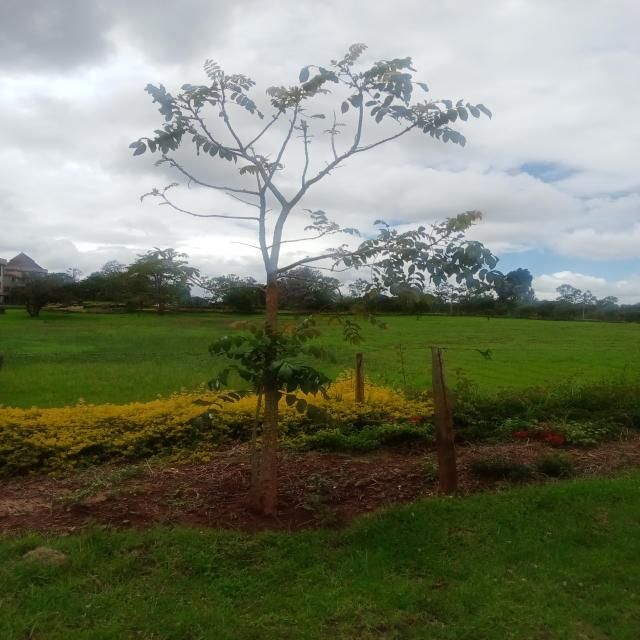Polyscias Kikuyensis: (115, 28, 531, 476)
